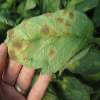Tomato mold leaf: (2, 9, 98, 74)
